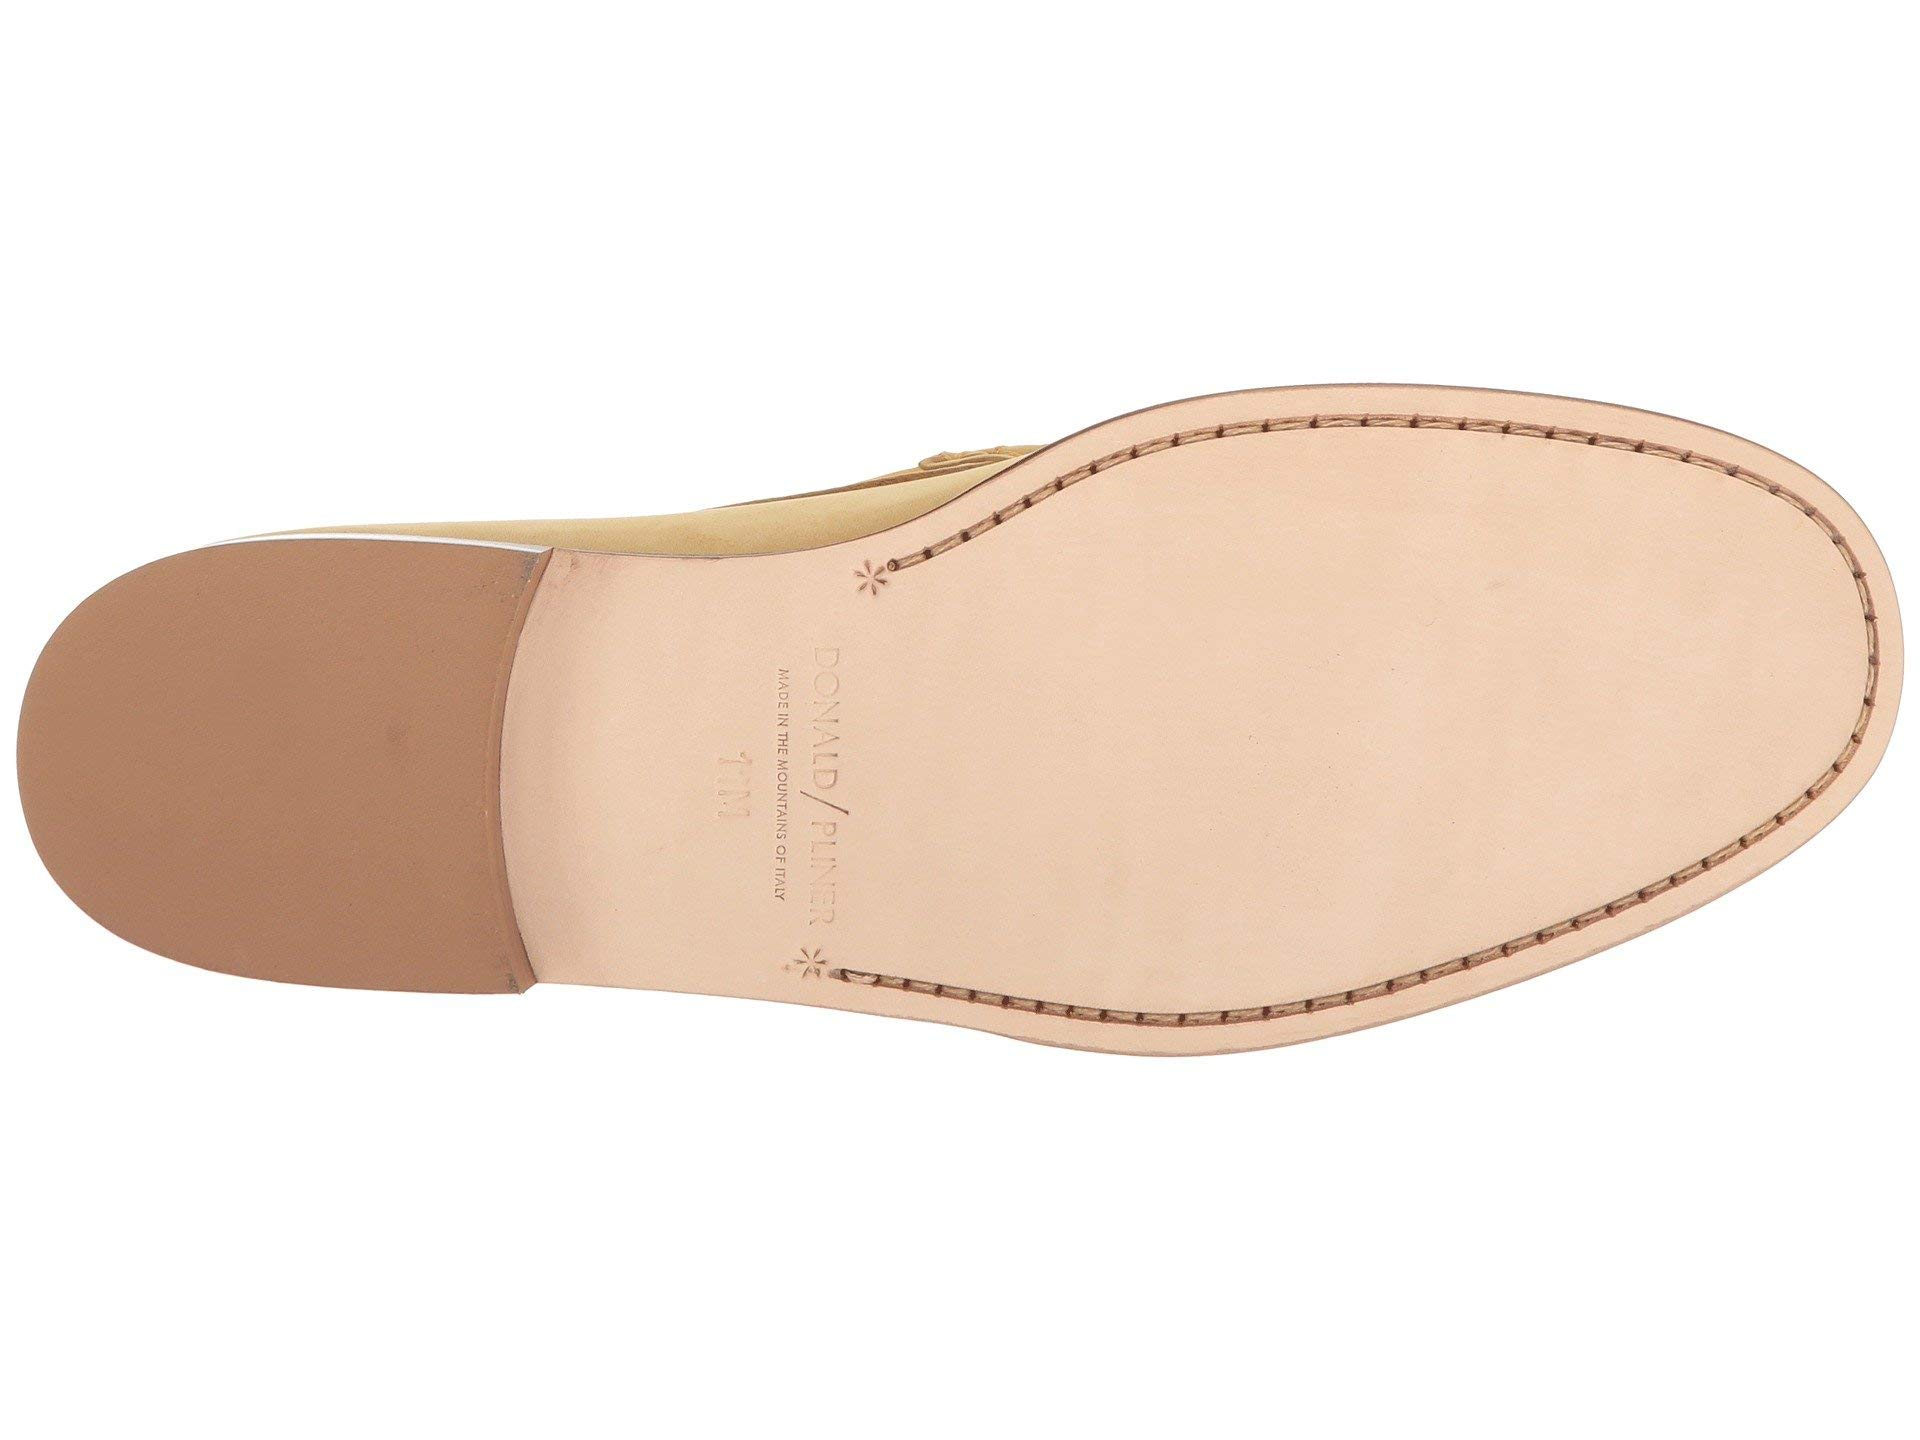circle: (694, 557, 887, 976)
line: (1163, 383, 1737, 484)
star: (694, 557, 887, 976)
text: (694, 557, 887, 976)
